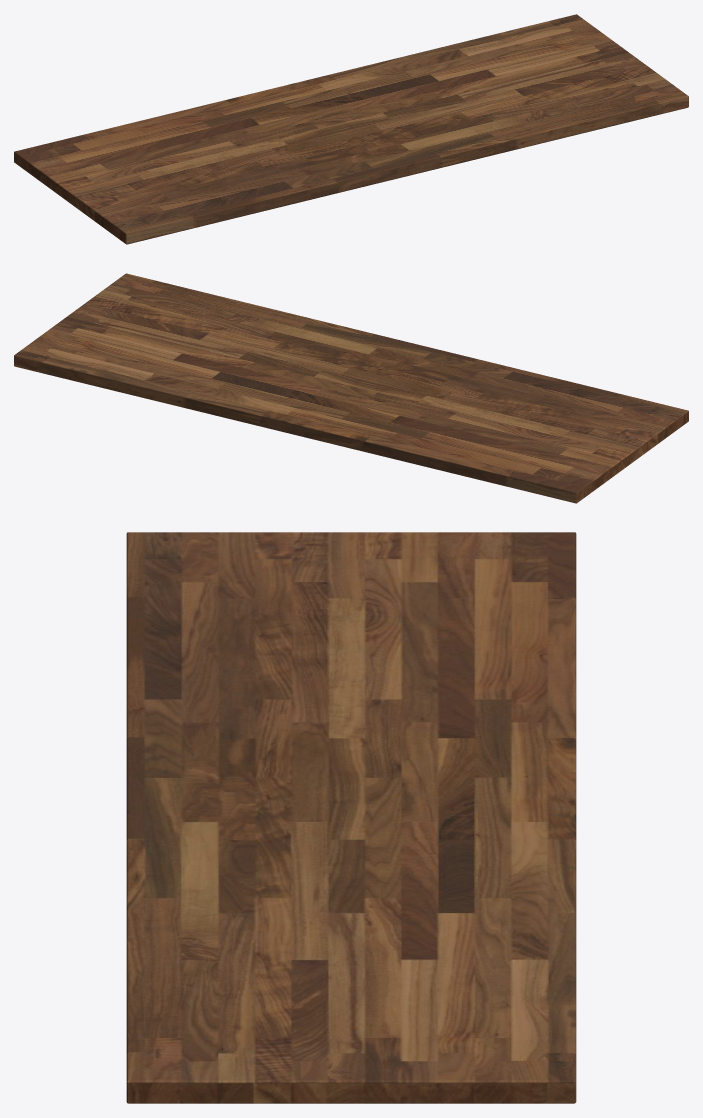
Rendered from KARLBY_50335208.glb.
The picture shows the model from 3 angles, top to bottom: view 1: azimuth 30°, elevation 25°; view 2: azimuth 150°, elevation 25°; view 3: azimuth 270°, elevation 25°; orthographic projection. The views are drawn at different scales.
Parts seen in each view (by area): view 1: model; view 2: model; view 3: model.
Boxes of the visible parts, x1,y1,x2,y2 form: model: (14,14,688,244); model: (14,273,688,503); model: (126,532,576,1103).
Bounding box in the file's own units: 1.88 × 0.0372 × 0.65.
1 material, 1 textured.
